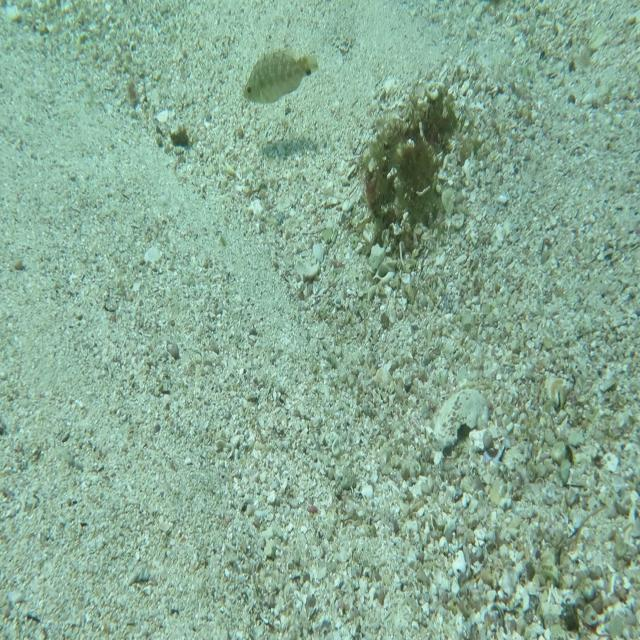SA: (242, 44, 320, 105)
core_nest: (412, 103, 447, 139)
nest: (362, 75, 462, 266)
vegetation: (170, 123, 192, 154), (126, 71, 142, 103)
